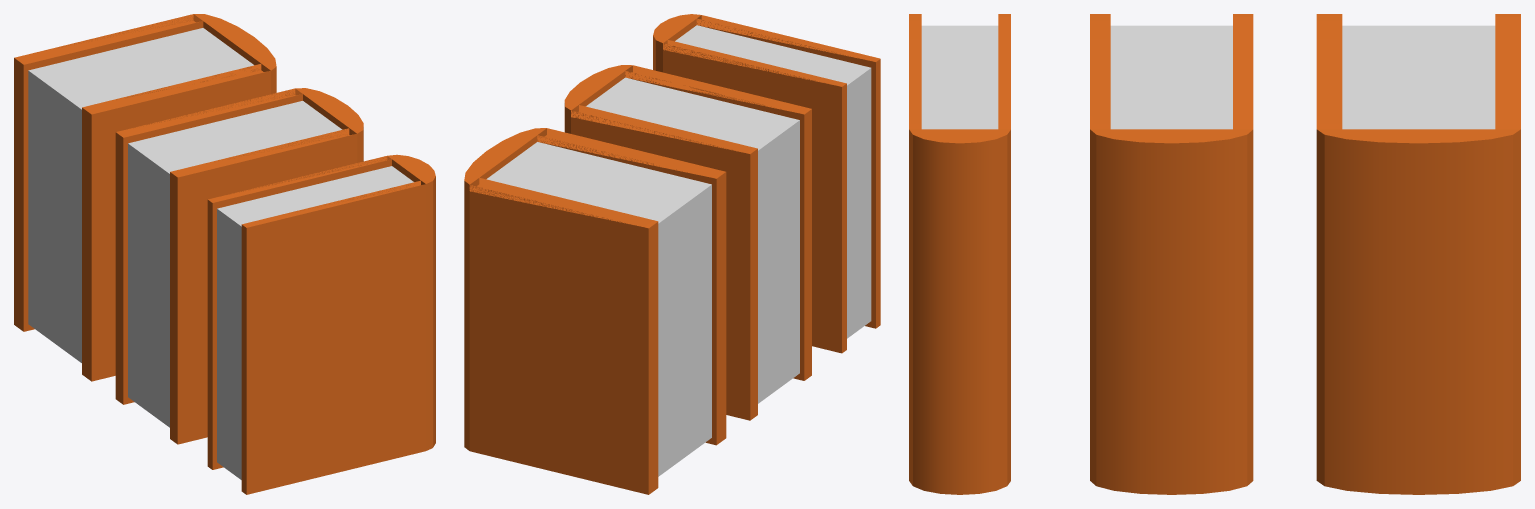
File: Books.fbx
3 renders of one model, left to right at view 1: azimuth 30°, elevation 25°; view 2: azimuth 150°, elevation 25°; view 3: azimuth 270°, elevation 25°, orthographic. The views are drawn at different scales.
Parts seen in each view (by area): view 1: BookThin, BookThick, BookThin.001; view 2: BookThick, BookThin.001, BookThin; view 3: BookThick, BookThin.001, BookThin.
Boxes of the visible parts, x1,y1,x2,y2 form: BookThin: [207, 154, 435, 494]; BookThick: [14, 14, 276, 381]; BookThin.001: [115, 88, 363, 444]; BookThick: [464, 128, 726, 494]; BookThin.001: [564, 65, 811, 420]; BookThin: [653, 14, 880, 353]; BookThick: [1316, 14, 1520, 494]; BookThin.001: [1090, 14, 1253, 494]; BookThin: [909, 14, 1010, 494].
Size of the model in its own units: 15 by 19 by 29.97.
